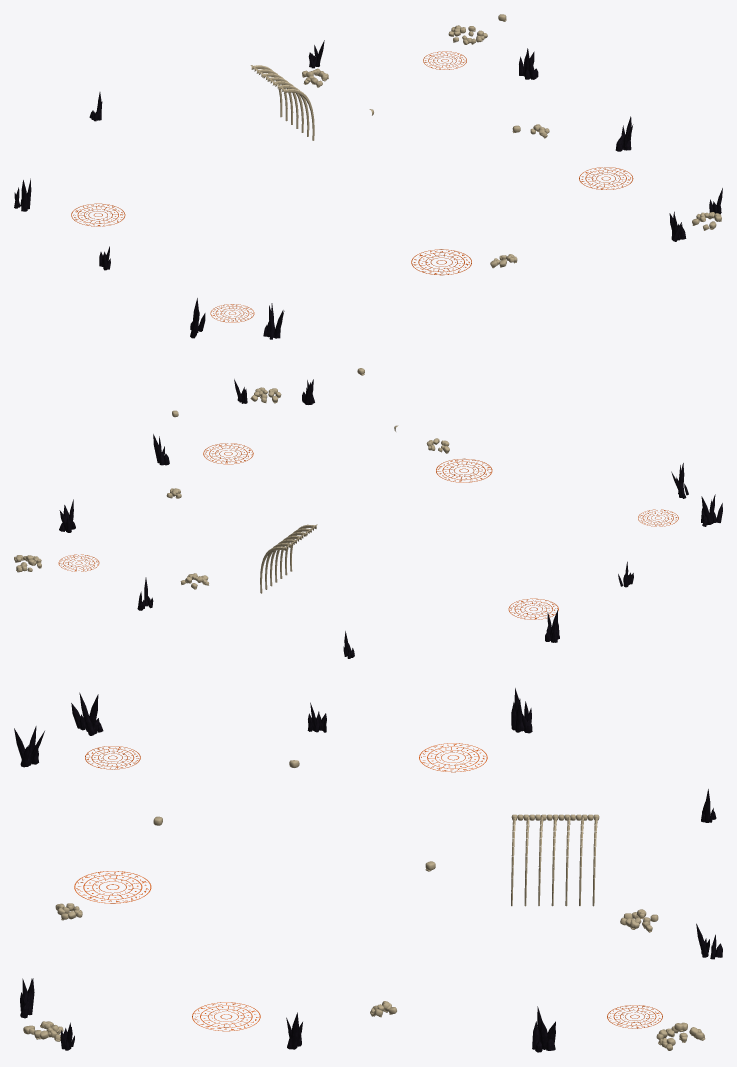
The model's file is tb_hellx_p2.glb.
The picture shows the model from 3 angles, top to bottom: view 1: azimuth 30°, elevation 25°; view 2: azimuth 150°, elevation 25°; view 3: azimuth 270°, elevation 25°; orthographic projection. The views are drawn at different scales.
Visible parts, largest first — view 1: tb_hellx_p2; view 2: tb_hellx_p2; view 3: tb_hellx_p2.
Boxes of the visible parts, x1,y1,x2,y2 form: tb_hellx_p2: (14,14,722,339); tb_hellx_p2: (14,368,722,658); tb_hellx_p2: (14,688,722,1052).
Bounding box in the file's own units: 68.3 × 13.89 × 62.46.
Materials: 3 (2 with a texture image).
